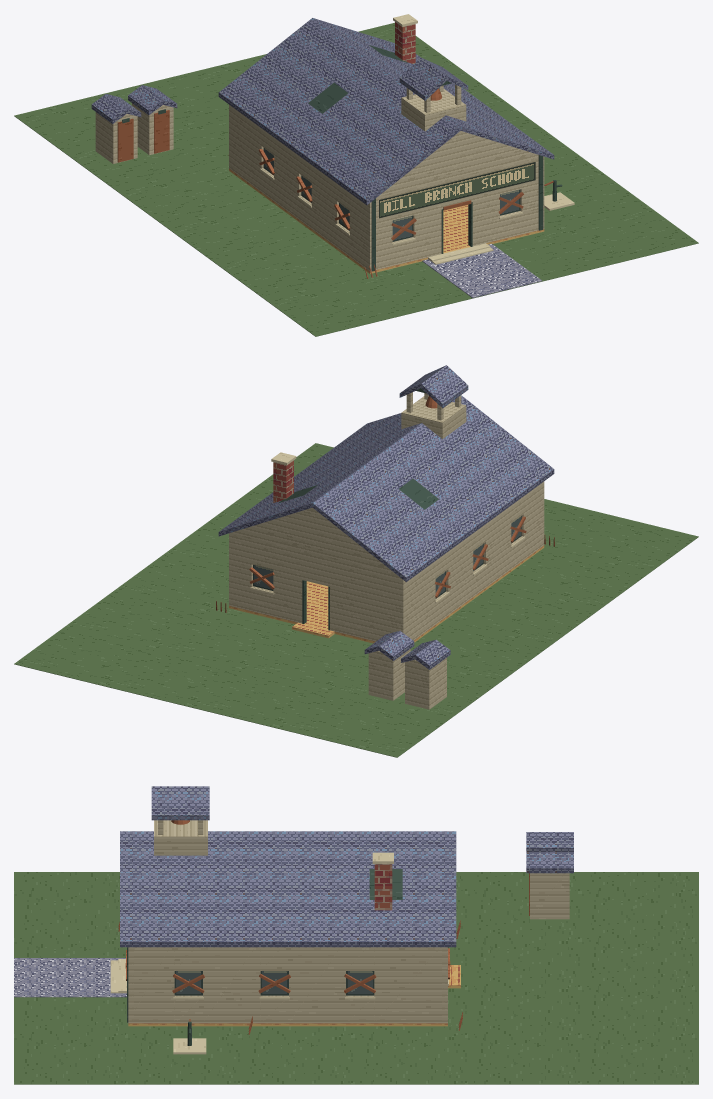
The model's file is mill-branch-abandoned.glb.
The picture shows the model from 3 angles, top to bottom: view 1: azimuth 30°, elevation 25°; view 2: azimuth 150°, elevation 25°; view 3: azimuth 270°, elevation 25°; orthographic projection. The views are drawn at different scales.
Parts seen in each view (by area): view 1: lot, building_shell, sign_name; view 2: lot, building_shell; view 3: lot, building_shell.
Part boxes in pixels (left/top/right/bottom): lot: left=14, top=22, right=698, bottom=336; building_shell: left=218, top=14, right=554, bottom=273; sign_name: left=379, top=162, right=535, bottom=218; lot: left=14, top=443, right=698, bottom=757; building_shell: left=218, top=365, right=554, bottom=643; lot: left=14, top=832, right=698, bottom=1084; building_shell: left=110, top=786, right=460, bottom=1026.
Size of what is drawn, in the model's own units: 22 by 9.3 by 30.
Materials: 11 (11 with a texture image).
